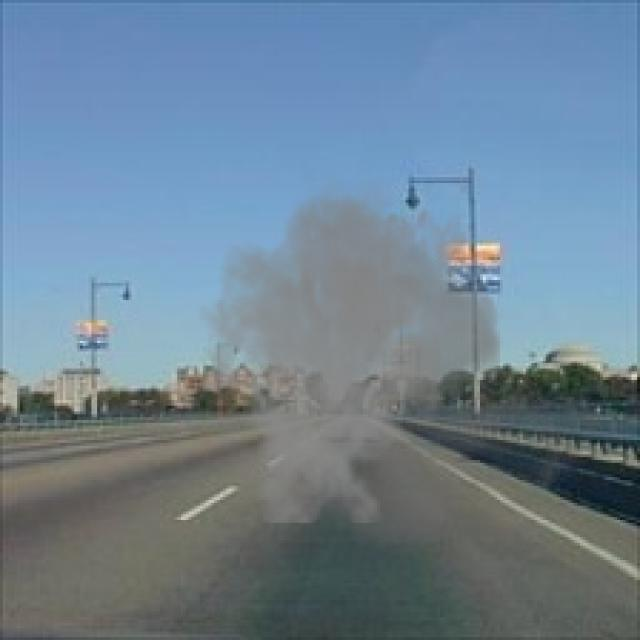smoke: (197, 166, 609, 571)
